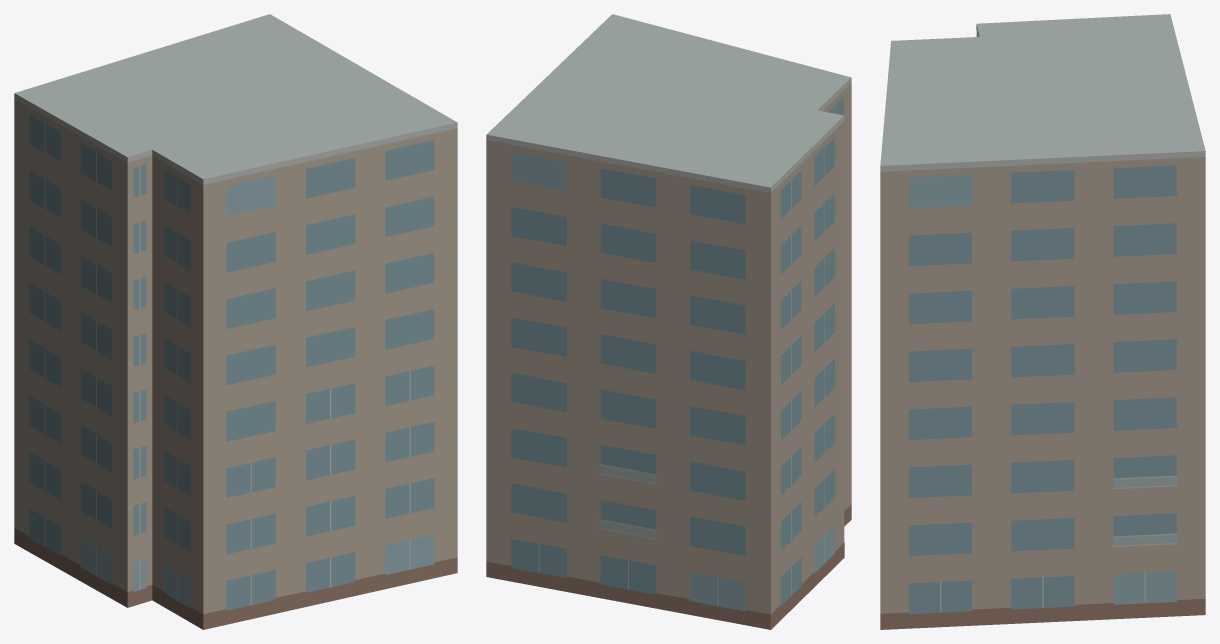
The model's file is survey-upis-32846626.glb.
3 renders of one model, left to right at view 1: azimuth 30°, elevation 25°; view 2: azimuth 150°, elevation 25°; view 3: azimuth 270°, elevation 25°, orthographic. The views are drawn at different scales.
Visible parts, largest first — view 1: survey-upis-32846626.tmp; view 2: survey-upis-32846626.tmp; view 3: survey-upis-32846626.tmp.
Boxes of the visible parts, x1,y1,x2,y2 form: survey-upis-32846626.tmp: (14, 14, 457, 629); survey-upis-32846626.tmp: (486, 14, 851, 629); survey-upis-32846626.tmp: (880, 14, 1205, 629).
Bounding box in the file's own units: 13.64 × 19.4 × 12.34.
